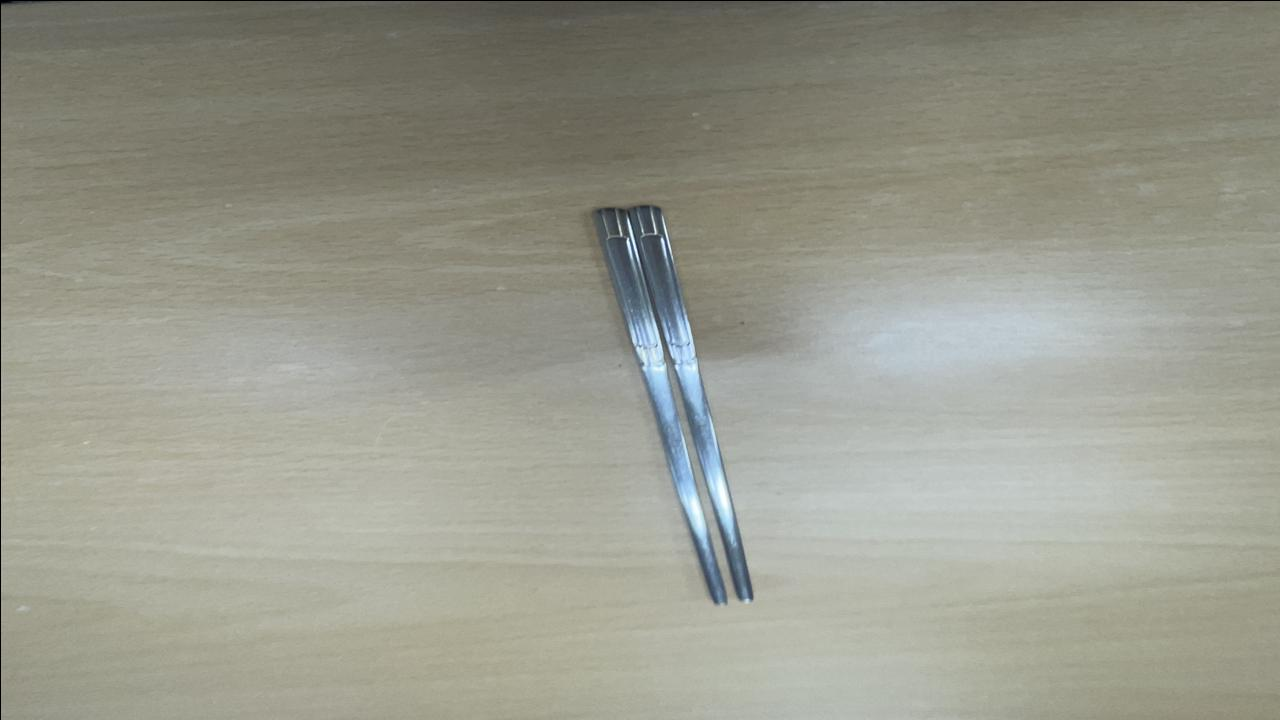chopstick: (588, 206, 762, 602)
